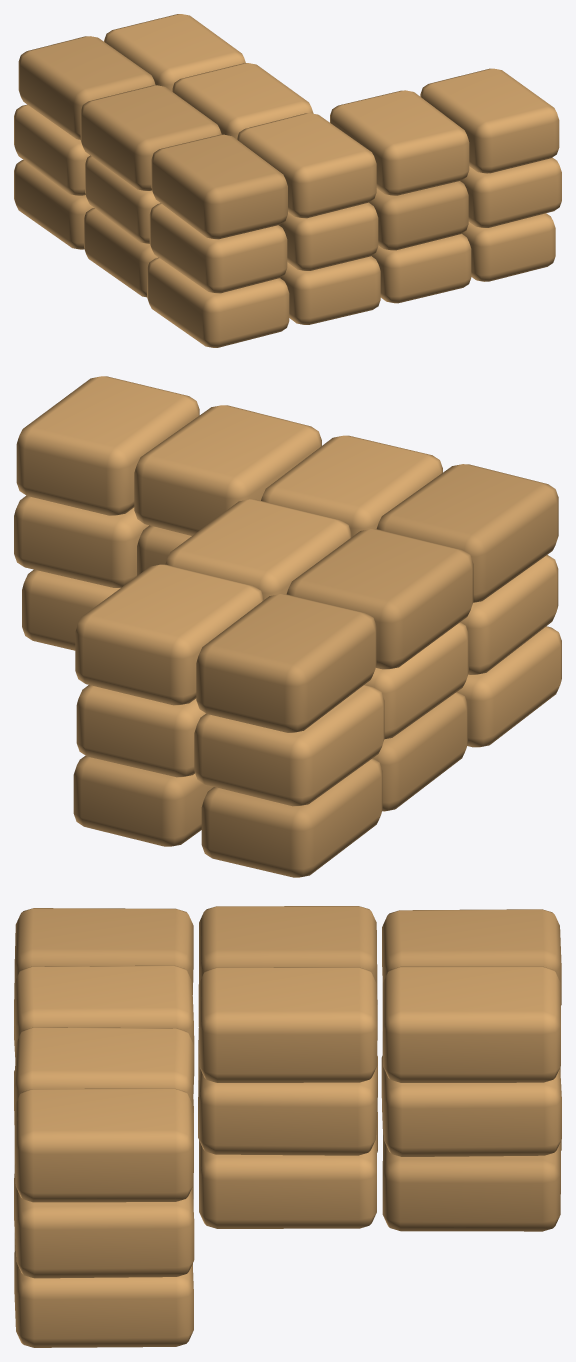
Rendered from NJD-10.glb.
The picture shows the model from 3 angles, top to bottom: view 1: azimuth 30°, elevation 25°; view 2: azimuth 150°, elevation 25°; view 3: azimuth 270°, elevation 25°; orthographic projection. The views are drawn at different scales.
Visible parts, largest first — view 1: handmade block.016, handmade block.022, handmade block.023, handmade block.019, handmade block.017, handmade block.018, handmade block, handmade block.008, handmade block.020, handmade block.021, handmade block.015, handmade block.003 (+8 smaller); view 2: handmade block.018, handmade block.021, handmade block.023, handmade block.022, handmade block.017, handmade block.010, handmade block.016, handmade block.002, handmade block.020, handmade block.019, handmade block.005, handmade block.015 (+7 smaller); view 3: handmade block.021, handmade block.020, handmade block.023, handmade block.015, handmade block.005, handmade block.013, handmade block.004, handmade block.012, handmade block.007, handmade block.019, handmade block.017, handmade block.022 (+2 smaller).
Part boxes in pixels (x1,y1,x2,y2): handmade block.016: (151,134,287,239); handmade block.022: (330,90,469,195); handmade block.023: (420,68,559,173); handmade block.019: (236,113,376,218); handmade block.017: (80,85,221,190); handmade block.018: (18,36,155,139); handmade block: (147,257,289,347); handmade block.008: (149,203,287,293); handmade block.020: (172,63,313,138); handmade block.021: (104,14,245,91); handmade block.015: (460,157,561,227); handmade block.003: (280,256,380,324); handmade block.018: (196,594,376,732); handmade block.021: (75,564,264,705); handmade block.023: (16,376,199,515); handmade block.022: (134,405,321,535); handmade block.017: (286,529,473,669); handmade block.010: (194,684,384,806); handmade block.016: (376,464,558,602); handmade block.002: (201,758,382,877); handmade block.020: (165,499,351,599); handmade block.019: (261,435,442,536); handmade block.005: (73,755,213,846); handmade block.015: (14,495,148,587); handmade block.021: (382,966,560,1082); handmade block.020: (198,967,377,1082); handmade block.023: (15,1088,193,1202); handmade block.015: (14,1176,194,1278); handmade block.005: (382,1134,560,1231); handmade block.013: (381,1055,561,1156); handmade block.004: (199,1130,376,1228); handmade block.012: (198,1056,377,1155); handmade block.007: (14,1250,193,1347); handmade block.019: (14,965,193,1049); handmade block.017: (199,906,377,1004); handmade block.022: (14,1027,193,1125).
Bounding box in the file's own units: 1.93 × 0.815 × 1.85.
